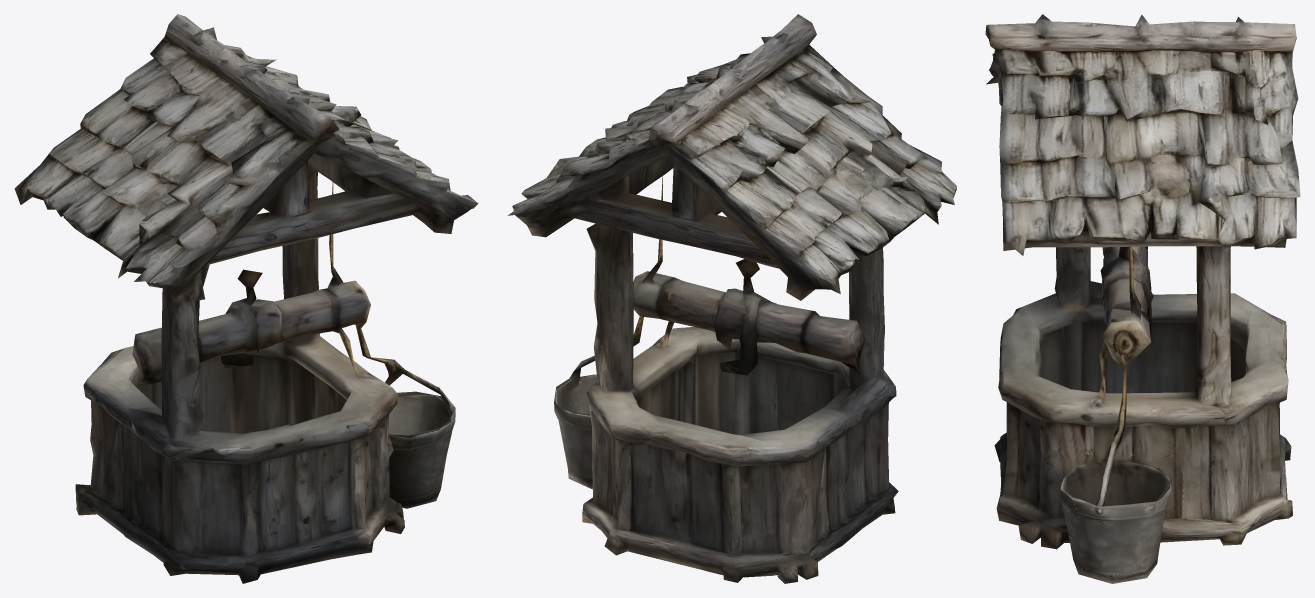
Rendered from kh_well.glb.
3 renders of one model, left to right at view 1: azimuth 30°, elevation 25°; view 2: azimuth 150°, elevation 25°; view 3: azimuth 270°, elevation 25°, orthographic. The views are drawn at different scales.
Parts seen in each view (by area): view 1: tripo_node_a05d74dc-d503-4c18-a251-f26cd8a4bce0; view 2: tripo_node_a05d74dc-d503-4c18-a251-f26cd8a4bce0; view 3: tripo_node_a05d74dc-d503-4c18-a251-f26cd8a4bce0.
Boxes of the visible parts, <box> form: tripo_node_a05d74dc-d503-4c18-a251-f26cd8a4bce0: <box>14,14,478,583</box>; tripo_node_a05d74dc-d503-4c18-a251-f26cd8a4bce0: <box>507,14,956,583</box>; tripo_node_a05d74dc-d503-4c18-a251-f26cd8a4bce0: <box>985,14,1300,583</box>.
Size of the model in its own units: 0.8198 by 1 by 0.6.
1 material, 1 textured.
